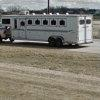Bus: (2, 8, 95, 51)
